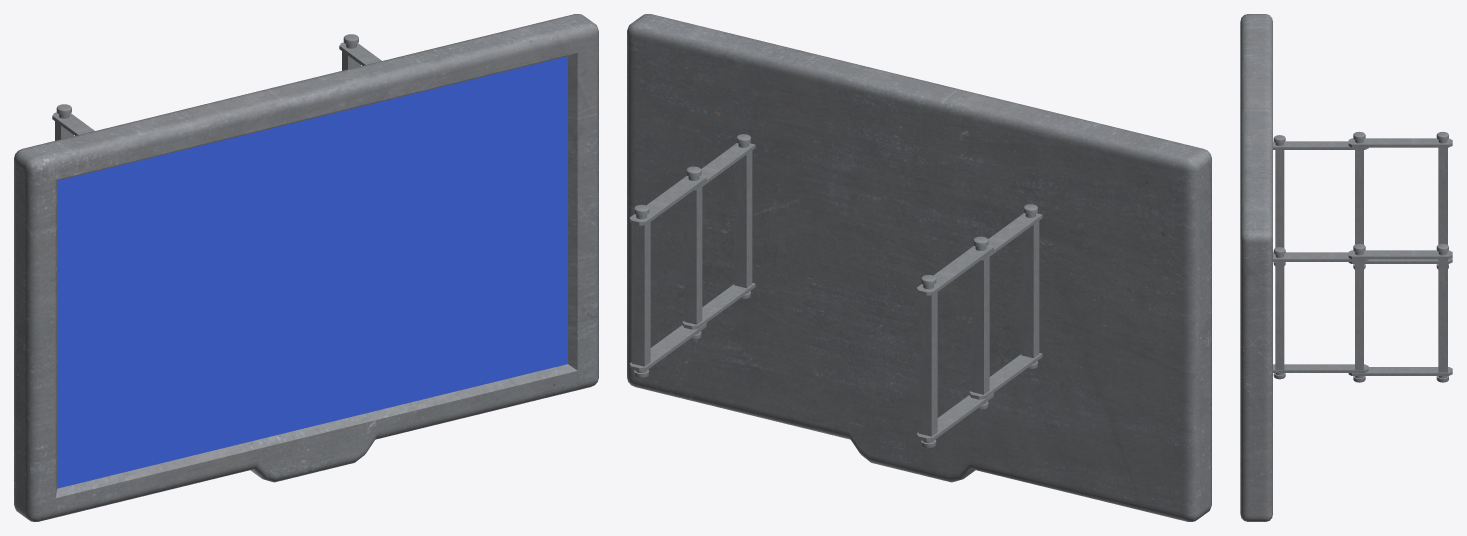
File: screen.fbx
The picture shows the model from 3 angles, left to right: view 1: azimuth 30°, elevation 25°; view 2: azimuth 150°, elevation 25°; view 3: azimuth 270°, elevation 25°; orthographic projection. The views are drawn at different scales.
Parts seen in each view (by area): view 1: Mesh; view 2: Mesh; view 3: Mesh.
Boxes of the visible parts, <box> form: Mesh: <box>14,14,598,521</box>; Mesh: <box>627,14,1211,521</box>; Mesh: <box>1240,14,1452,521</box>.
Size of the model in its own units: 194 by 124 by 78.28.
